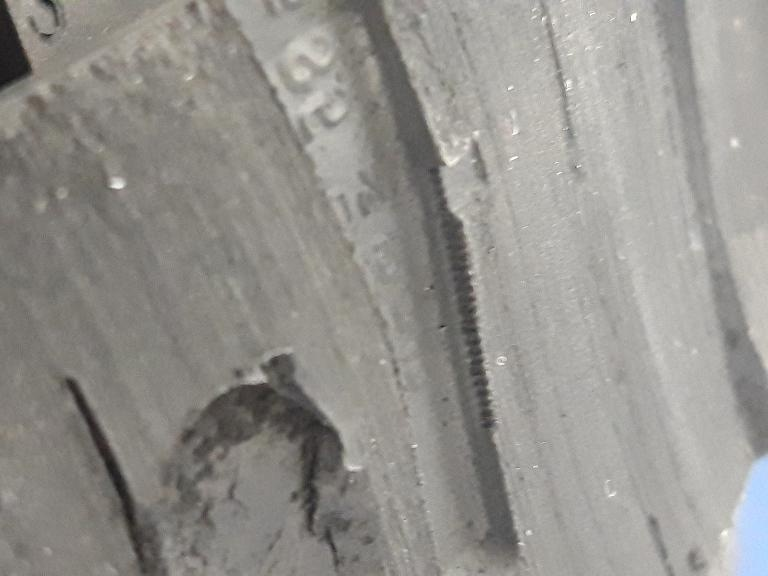temoin:0: (416, 128, 514, 242)
